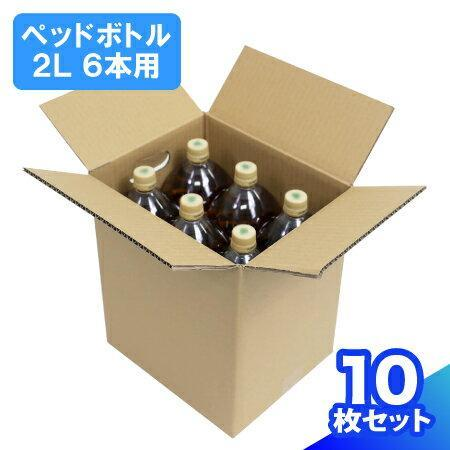box: (30, 41, 425, 436)
